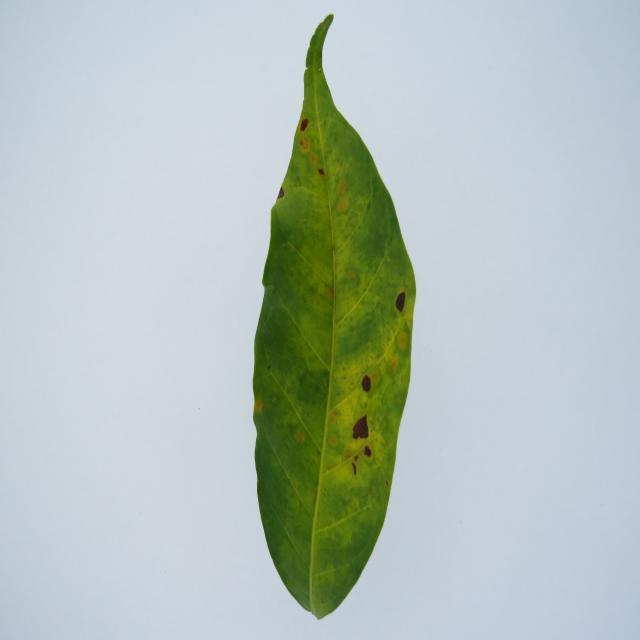DeficienciaNutricional-Nitrogeno: (254, 13, 415, 616)
